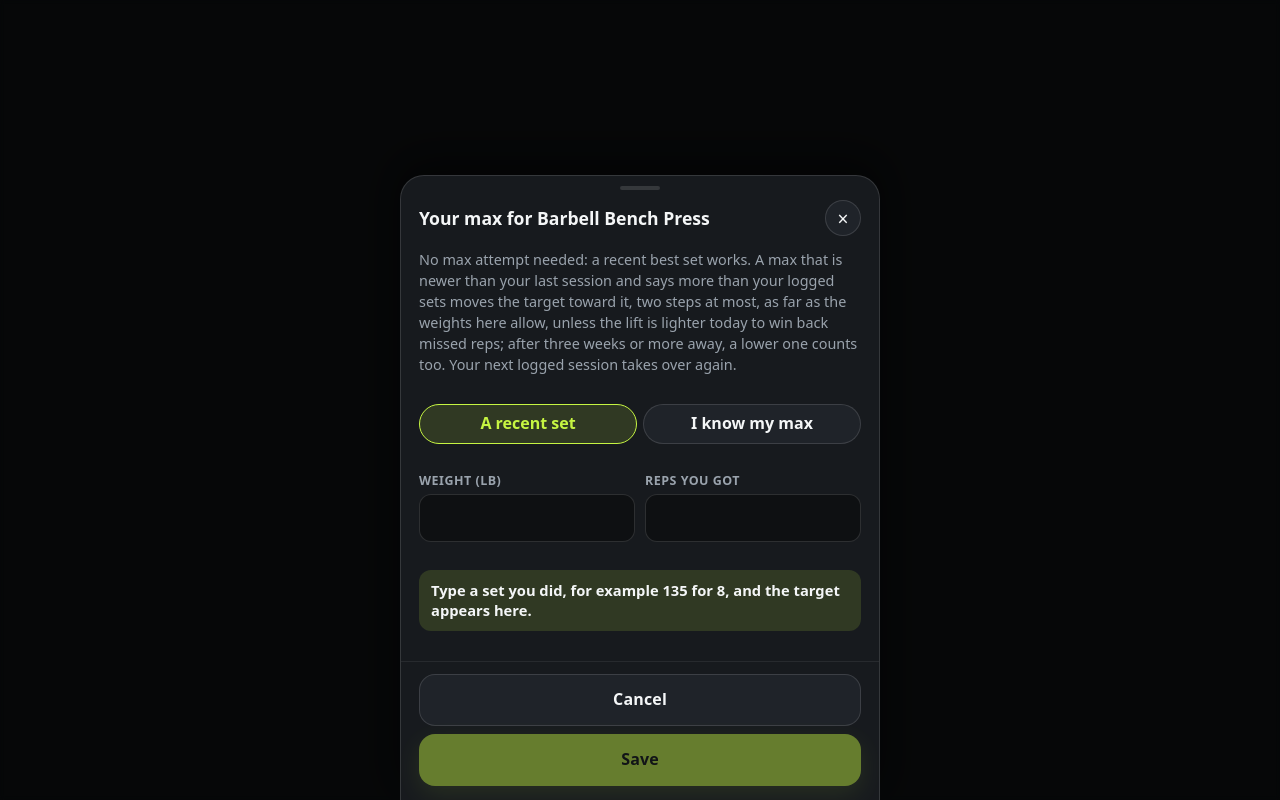
MaxSheet › says the max waits behind sets logged today when the lift’s weight is set by hand
Click the radio button labelled "I know my max": (752, 424) [643,404,861,444]
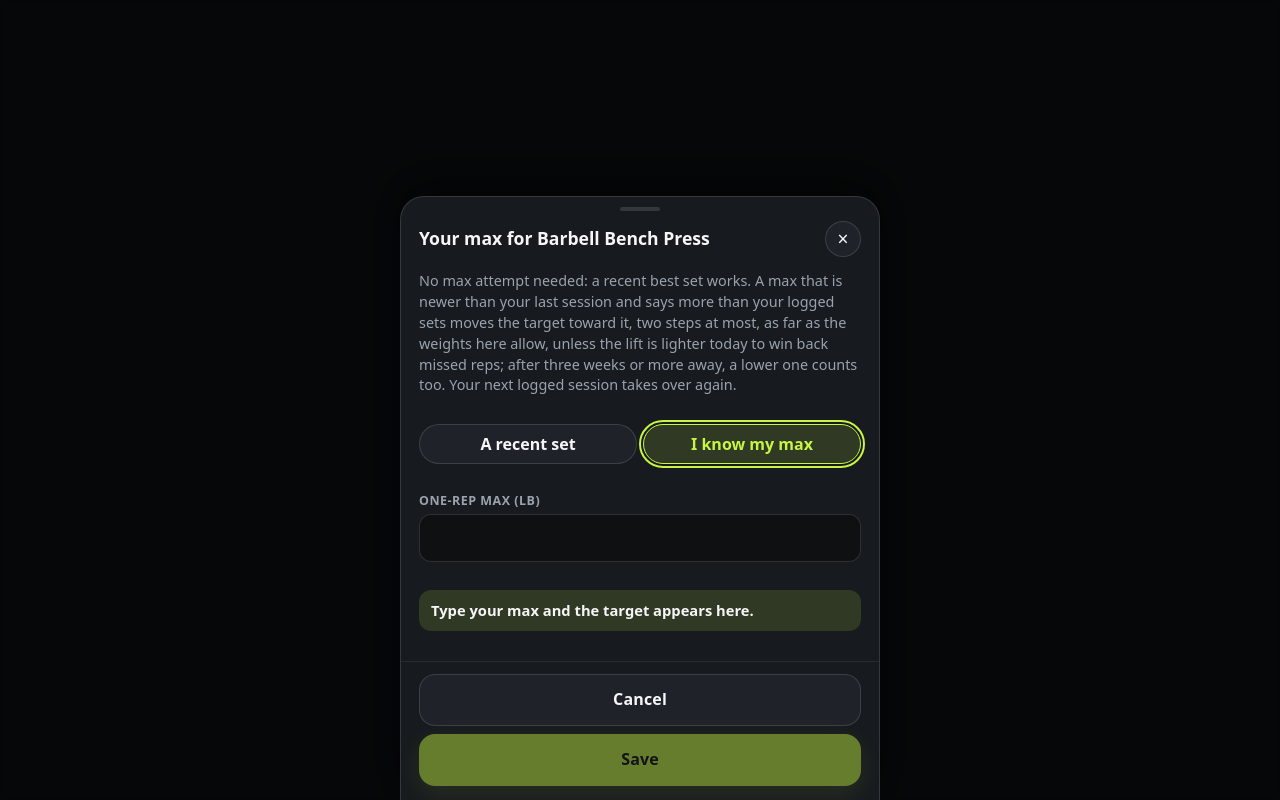
In the number field with test id "max-value": (640, 538) [419,514,861,562], type "250"
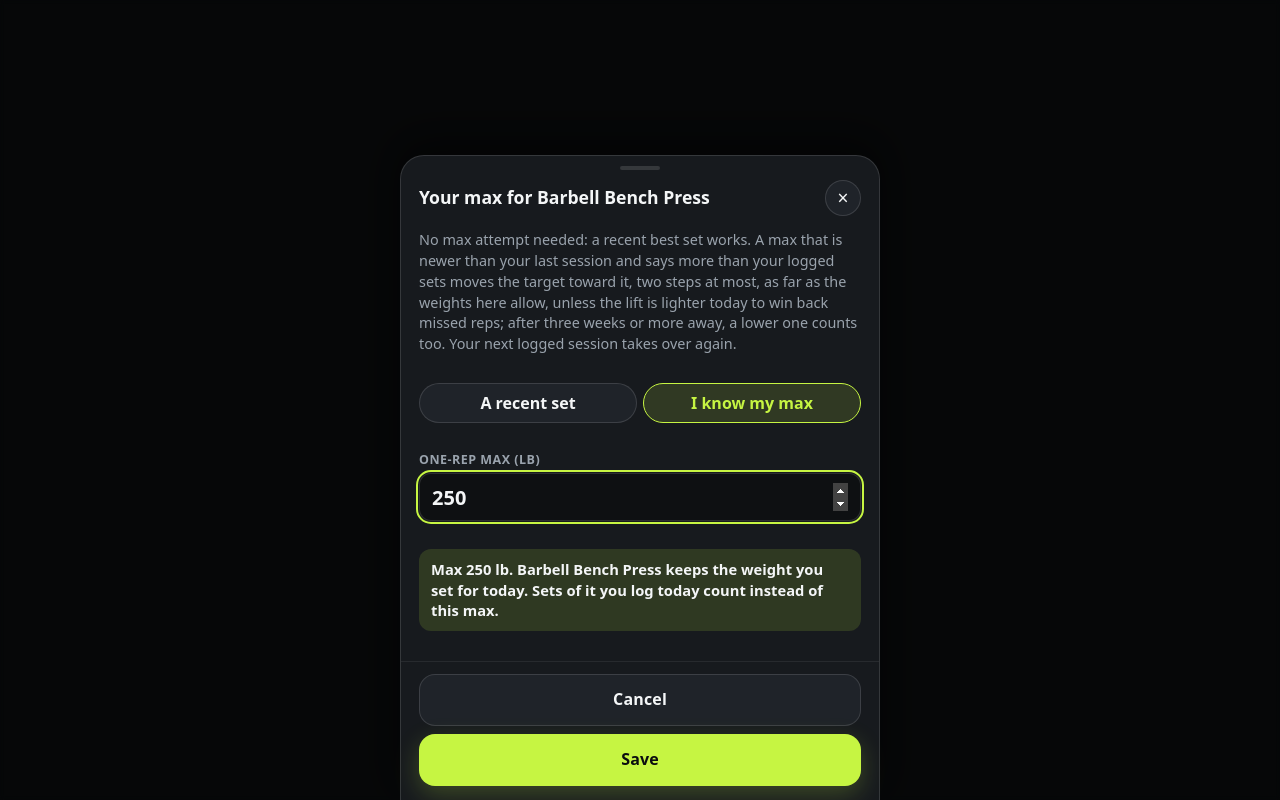
Expected: the text with test id "max-preview" shows "Max 250 lb. Barbell Bench Press keeps the weight you set for today. Sets of it you log today count instead of this max.", [431,559,823,620]
